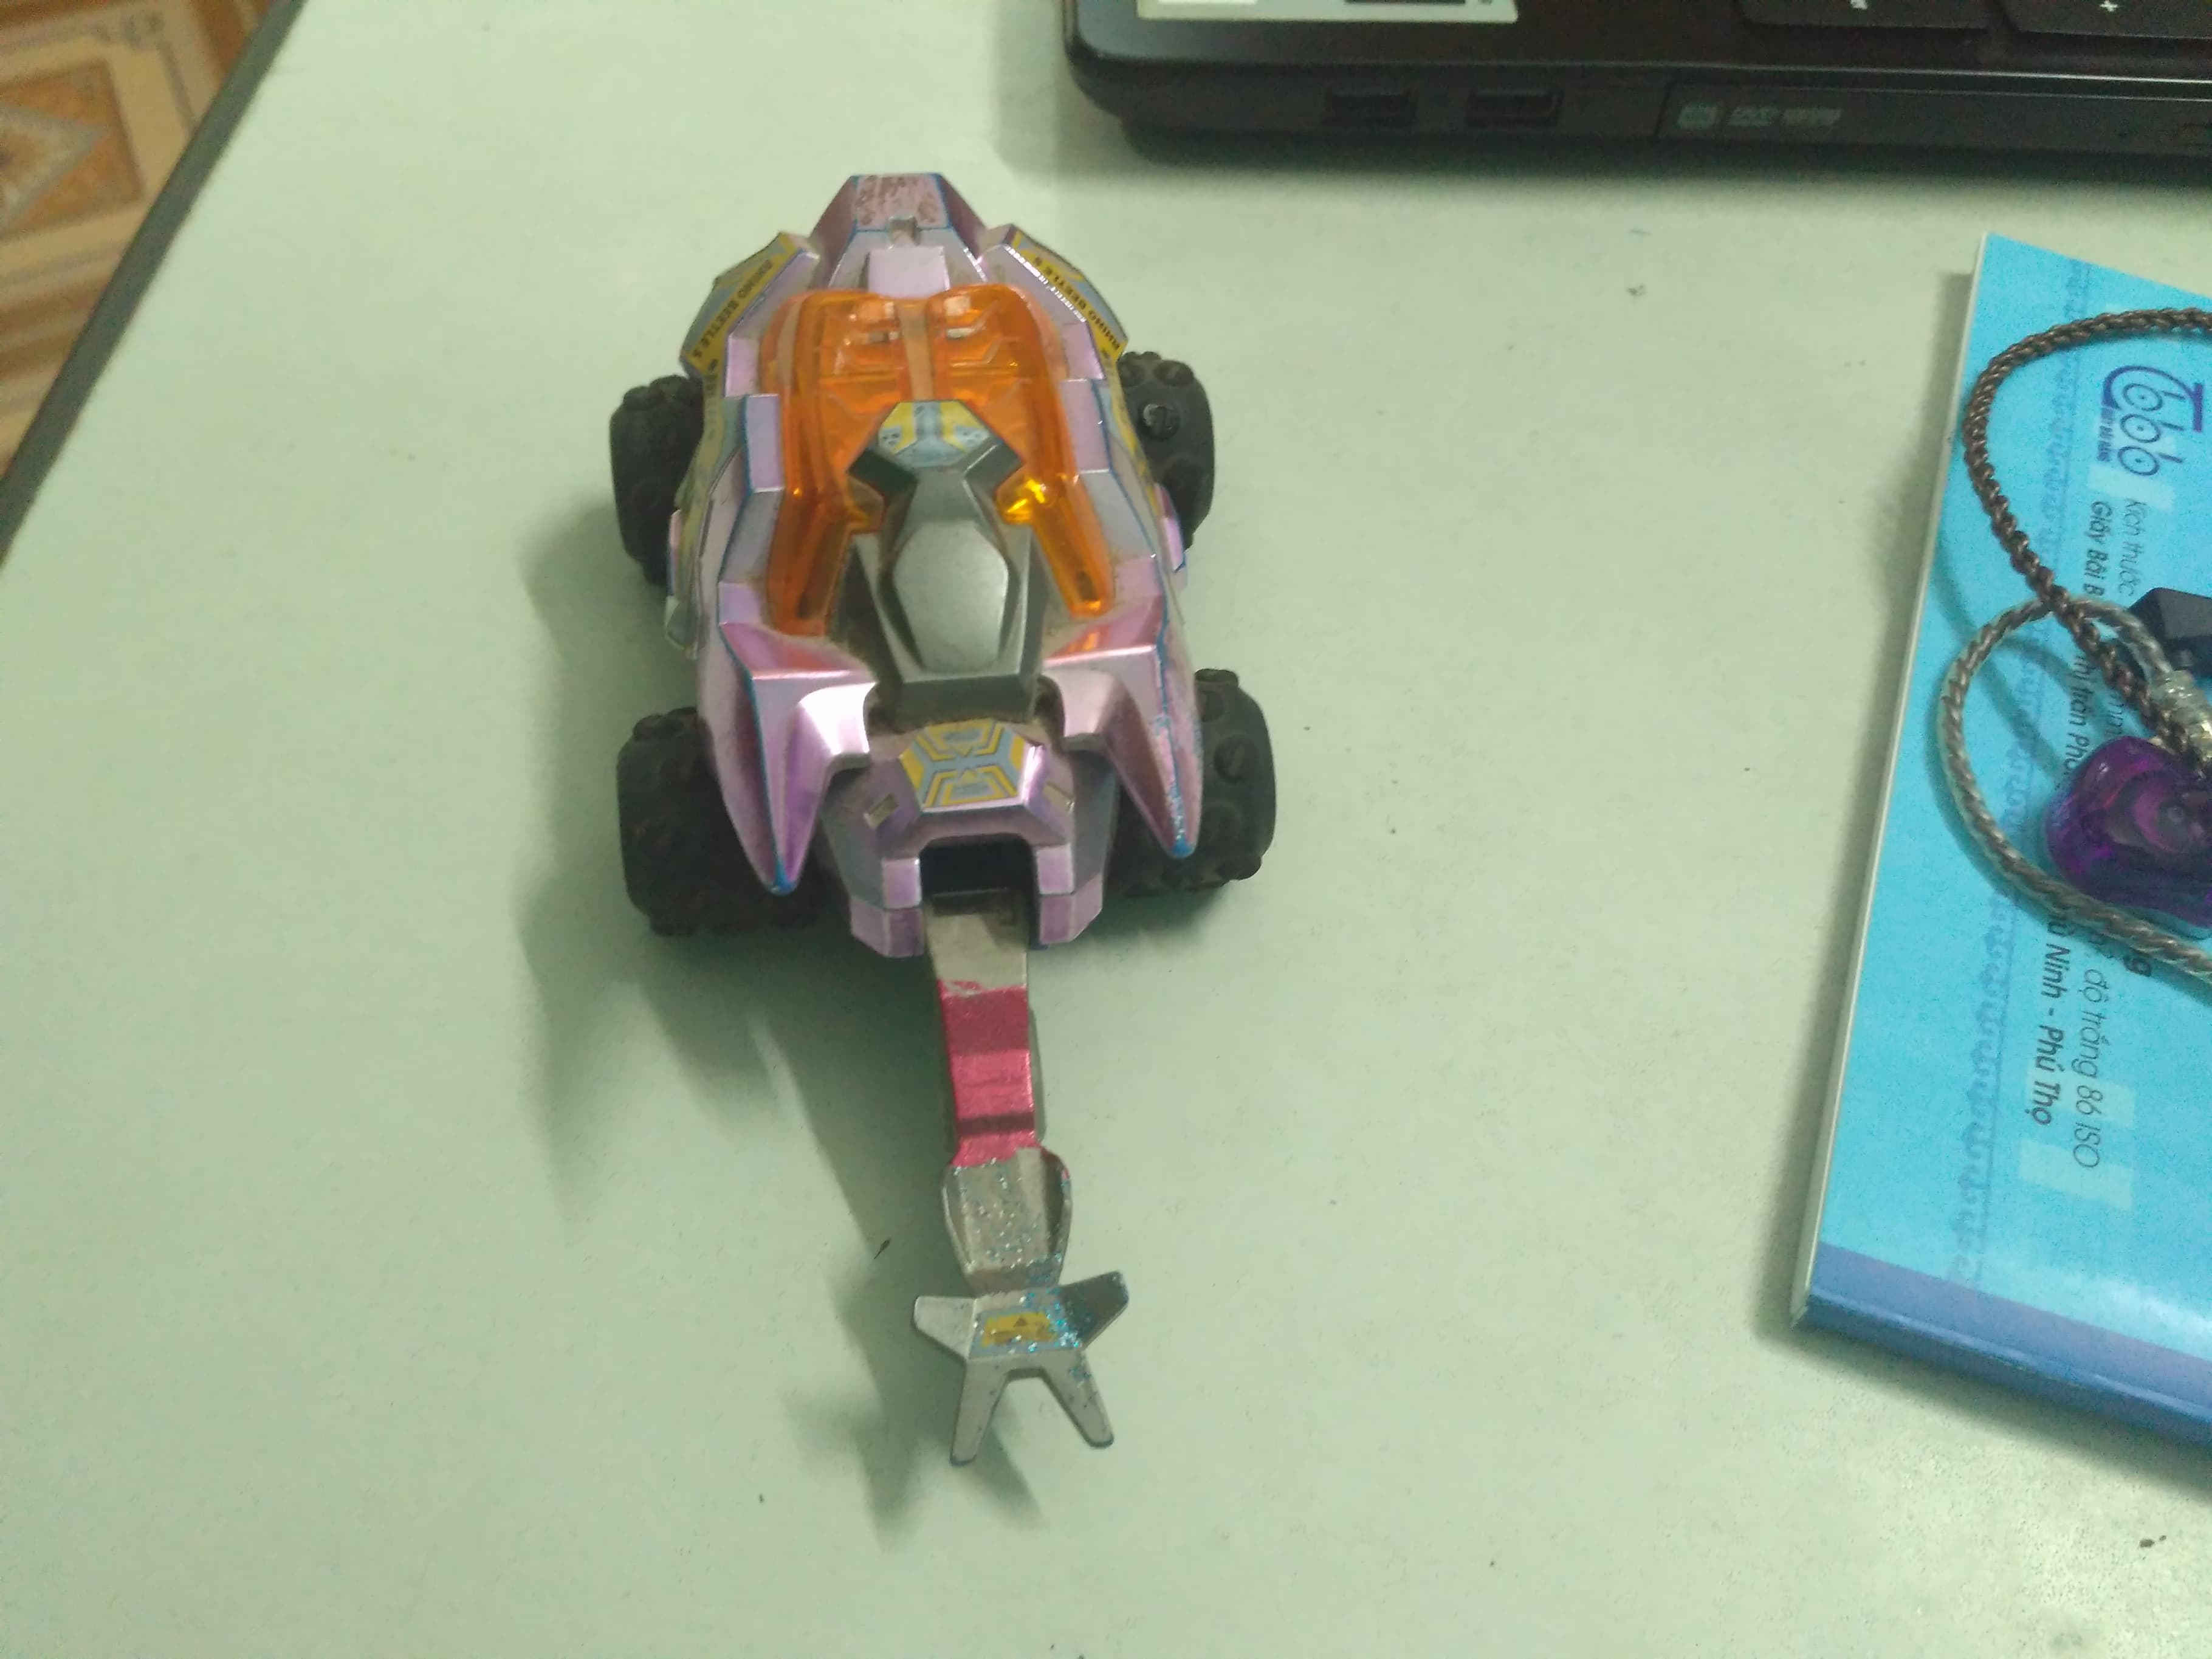rhino: (592, 159, 1287, 1478)
